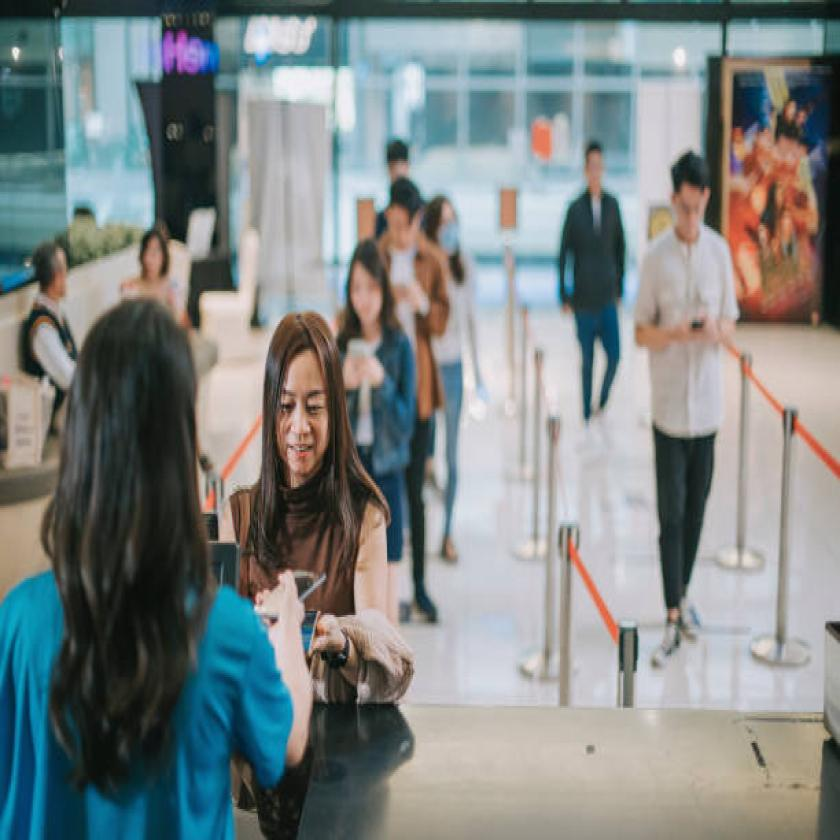Sin_casco: (259, 303, 347, 499)
